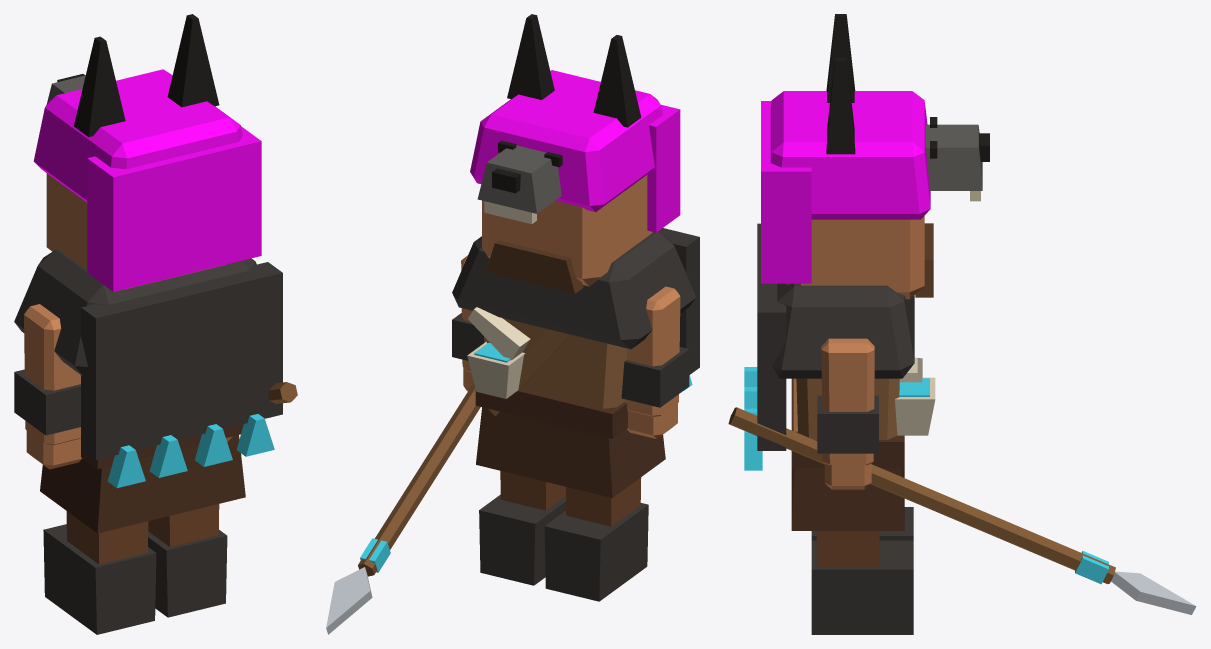
Rendered from CH_Beastmaster_BlackWolf.fbx.
3 renders of one model, left to right at view 1: azimuth 30°, elevation 25°; view 2: azimuth 150°, elevation 25°; view 3: azimuth 270°, elevation 25°, orthographic. The views are drawn at different scales.
Visible parts, largest first — view 1: MantleBack, HoodBack, Hood, Skirt, BootL, Mantle, BootR, ArmL, EarL, Head, CuffL, EarR (+10 smaller); view 2: Hood, Mantle, Skirt, Head, BootL, Body, BootR, Belt, Shaft, Snout, HoodBack, ArmL (+16 smaller); view 3: Hood, Mantle, BootR, Head, HoodBack, Shaft, Skirt, ArmR, MantleBack, Snout, CuffR, Body (+10 smaller).
Boxes of the visible parts, bbox=[...] form: MantleBack: bbox=[81, 262, 282, 459]; HoodBack: bbox=[87, 126, 261, 291]; Hood: bbox=[33, 69, 242, 202]; Skirt: bbox=[40, 435, 245, 533]; BootL: bbox=[43, 524, 156, 634]; Mantle: bbox=[14, 249, 256, 377]; BootR: bbox=[148, 530, 227, 617]; ArmL: bbox=[24, 304, 80, 445]; EarL: bbox=[74, 36, 125, 137]; Head: bbox=[46, 173, 225, 289]; CuffL: bbox=[14, 369, 80, 435]; EarR: bbox=[167, 14, 219, 107]; Hood: bbox=[470, 70, 662, 212]; Mantle: bbox=[452, 231, 696, 349]; Skirt: bbox=[476, 407, 665, 497]; Head: bbox=[482, 175, 652, 286]; BootL: bbox=[544, 503, 648, 601]; Body: bbox=[484, 318, 627, 408]; BootR: bbox=[479, 494, 565, 585]; Belt: bbox=[475, 389, 627, 438]; Shaft: bbox=[358, 384, 480, 576]; Snout: bbox=[477, 145, 561, 213]; HoodBack: bbox=[647, 104, 680, 232]; ArmL: bbox=[624, 286, 680, 416]; Hood: bbox=[770, 91, 930, 219]; Mantle: bbox=[772, 283, 914, 378]; BootR: bbox=[811, 540, 913, 634]; Head: bbox=[786, 216, 924, 299]; HoodBack: bbox=[761, 101, 811, 283]; Shaft: bbox=[728, 407, 1115, 584]; Skirt: bbox=[791, 468, 904, 530]; ArmR: bbox=[821, 338, 874, 465]; MantleBack: bbox=[757, 223, 786, 450]; Snout: bbox=[925, 124, 982, 190]; CuffR: bbox=[817, 395, 878, 453]; Body: bbox=[796, 378, 899, 439].
Size of the model in its own units: 0.7 by 1.29 by 1.72.
